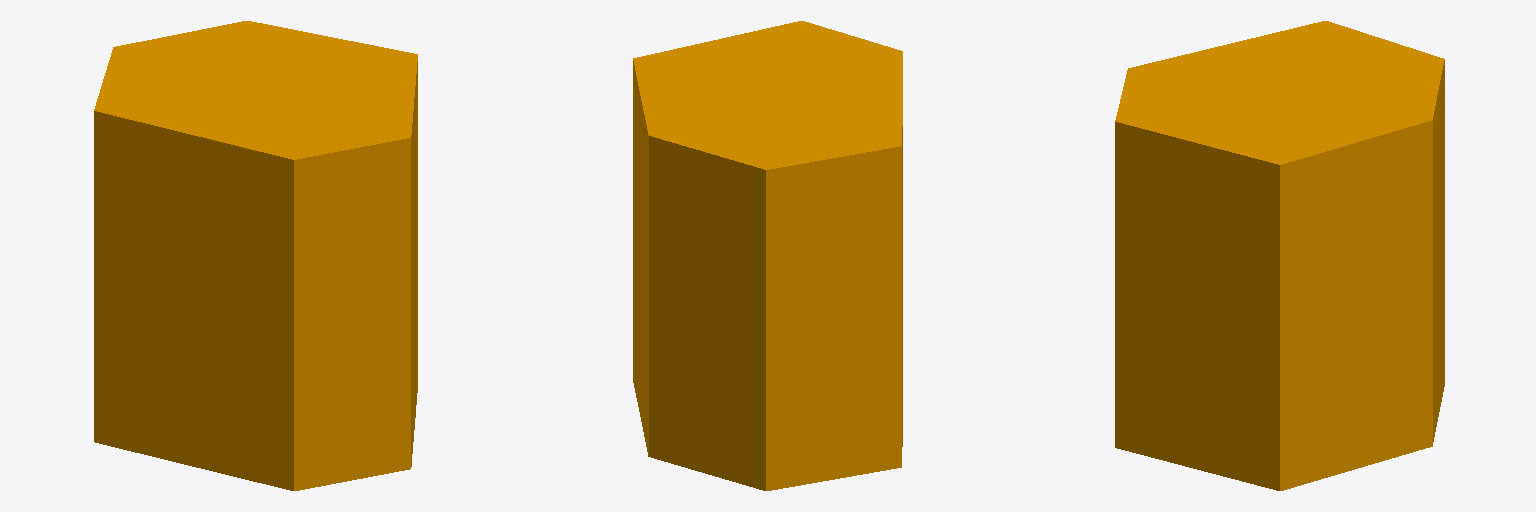
The robot description file, URDF, robot "object":
<?xml version="1.0"?>
<robot name="object">
  <link name="object">
    <visual>
      <origin xyz="0 0 0"/>
      <geometry>
        <mesh filename="meshes/generated/col_008.obj" scale="0.03 0.03 0.03"/>
      </geometry>
    </visual>
    <collision>
      <origin xyz="0 0 0"/>
      <geometry>
        <mesh filename="meshes/generated/col_008.obj" scale="0.03 0.03 0.03"/>
      </geometry>
    </collision>
    <inertial>
      <density value="1000.0"/>
    </inertial>
  </link>
</robot>

--- What the picture shows (computed from the rendered views, not written in the file) ---
Views: 3 orthographic renders of the robot side by side, from view 1: azimuth 30°, elevation 25°; view 2: azimuth 150°, elevation 25°; view 3: azimuth 270°, elevation 25°.
Model object with 1 links and 0 joints (none), rooted at object, posed all joints at 0.
Links seen in each view (by area): view 1: object; view 2: object; view 3: object.
Link boxes in pixels (box(x1,y1,x2,y2)): object: box(94, 21, 417, 490); object: box(633, 21, 902, 490); object: box(1115, 21, 1444, 490).
Size in the robot's own frame: 0.057 by 0.0549 by 0.06 metres.
1 mesh visuals loaded from 1 distinct referenced files (1 OBJ).
